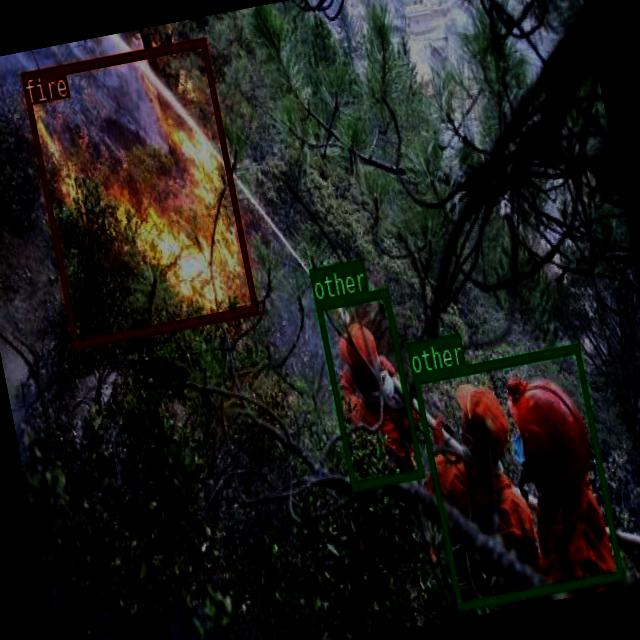fire: (19, 37, 258, 348)
